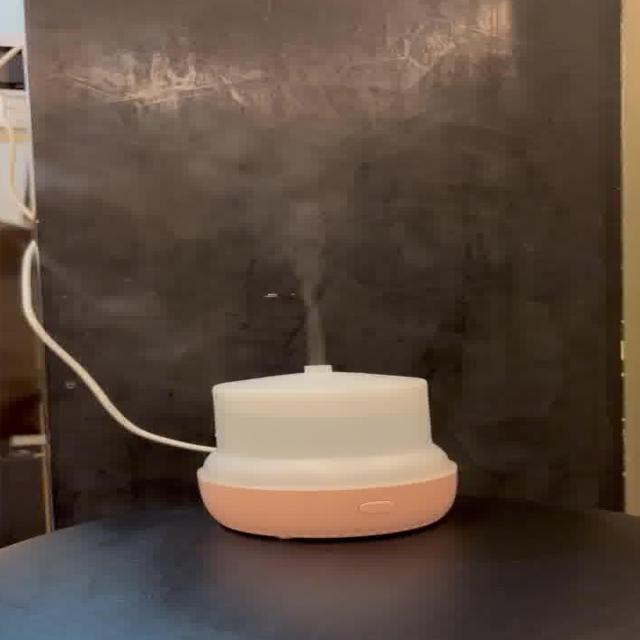fire: (203, 109, 352, 362)
